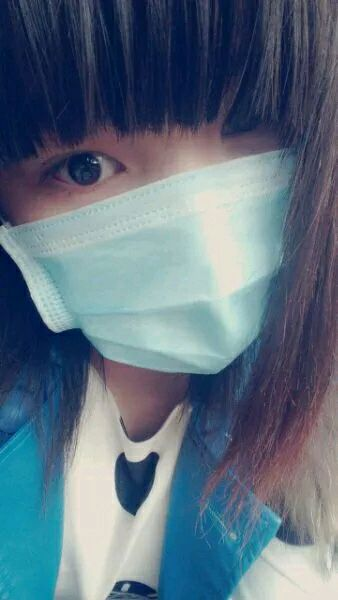face_mask: (16, 3, 321, 374)
